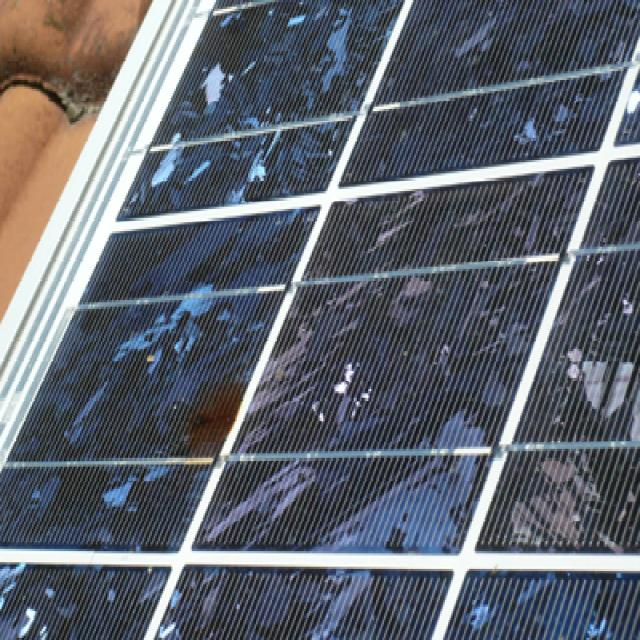electrical damage: (131, 52, 466, 640)
